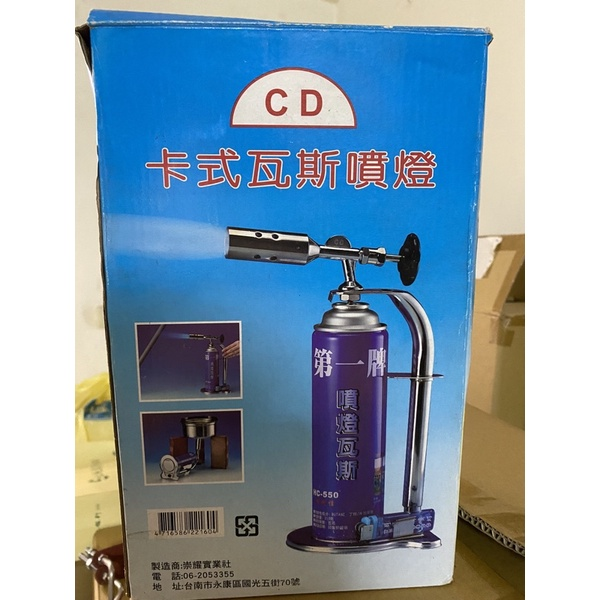gastorch: (221, 221, 448, 554)
